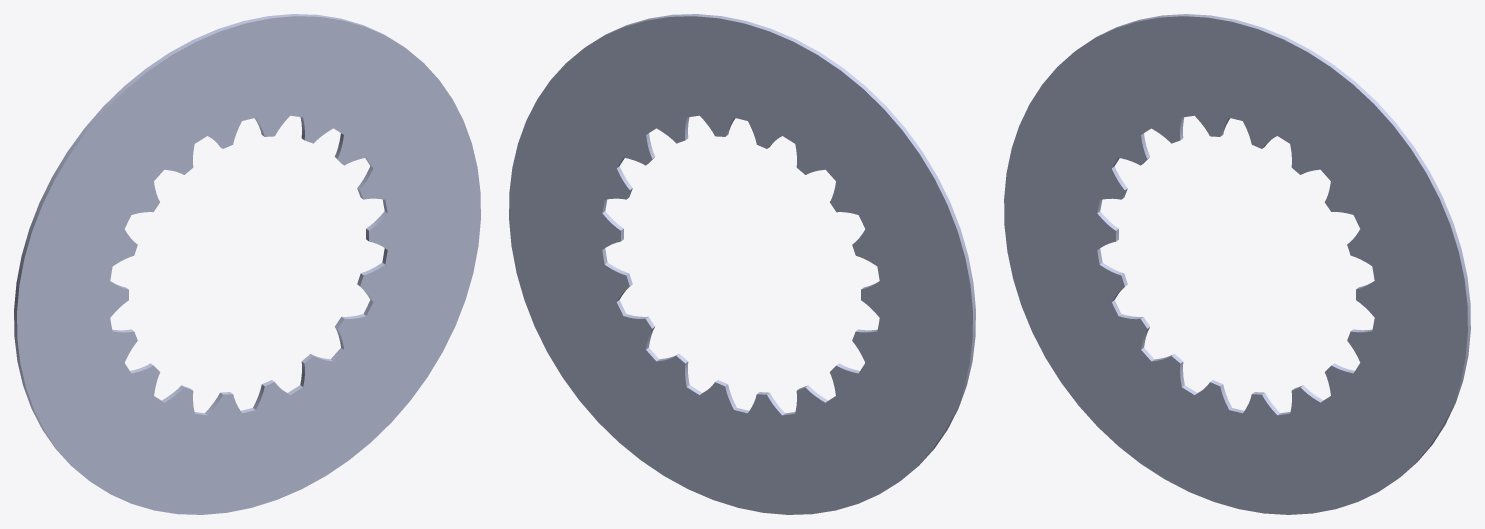
Rendered from REV_21_2103_A01_1_REV_21_2103_P03_1_solid1.obj.
3 views of the same model, side by side, from view 1: azimuth 30°, elevation 25°; view 2: azimuth 150°, elevation 25°; view 3: azimuth 330°, elevation 25° (orthographic).
Visible parts, largest first — view 1: mesh27435, mesh27434; view 2: mesh27436, mesh27434; view 3: mesh27435, mesh27434, mesh27433.
Part boxes in pixels (x1,y1,x2,y2): mesh27435: (17,16,480,514); mesh27434: (14,14,404,363); mesh27436: (509,16,972,514); mesh27434: (585,14,975,363); mesh27435: (1004,16,1467,514); mesh27434: (1077,14,1467,278); mesh27433: (1399,277,1470,477).
Size of the model in its own units: 0.0225 by 0.0225 by 0.00025.
